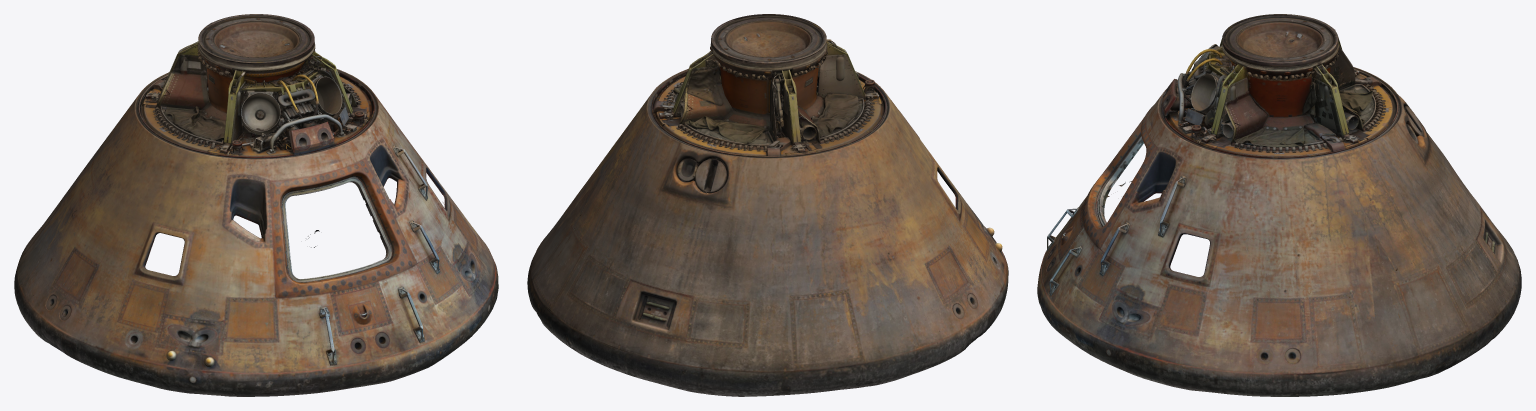
The model's file is apollo_csm.glb.
The picture shows the model from 3 angles, left to right: view 1: azimuth 30°, elevation 25°; view 2: azimuth 150°, elevation 25°; view 3: azimuth 270°, elevation 25°; orthographic projection.
Parts seen in each view (by area): view 1: Object_2, Object_3, Object_4; view 2: Object_2, Object_3, Object_4; view 3: Object_2, Object_3, Object_4.
Boxes of the visible parts, x1,y1,x2,y2 form: Object_2: [14, 69, 498, 396]; Object_3: [137, 14, 376, 158]; Object_4: [142, 50, 371, 156]; Object_2: [527, 69, 1008, 396]; Object_3: [649, 14, 887, 157]; Object_4: [653, 50, 882, 155]; Object_2: [1037, 67, 1521, 396]; Object_3: [1160, 14, 1399, 159]; Object_4: [1191, 52, 1381, 151].
Bounding box in the file's own units: 5.78 × 4.06 × 5.81.
Materials: 2 (2 with a texture image).
